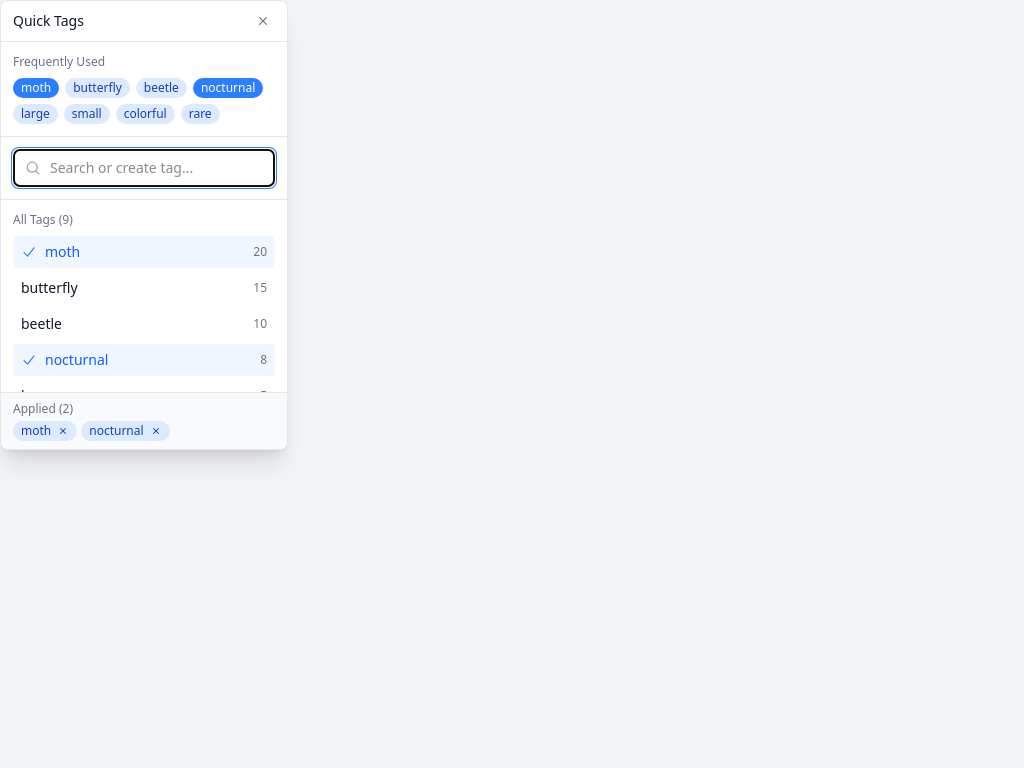
QuickTagDropdown › filters all tags based on search
Type "but" into the field with placeholder "Search or create tag...".
click(144, 168); type("but")  # box [13,149,275,187]
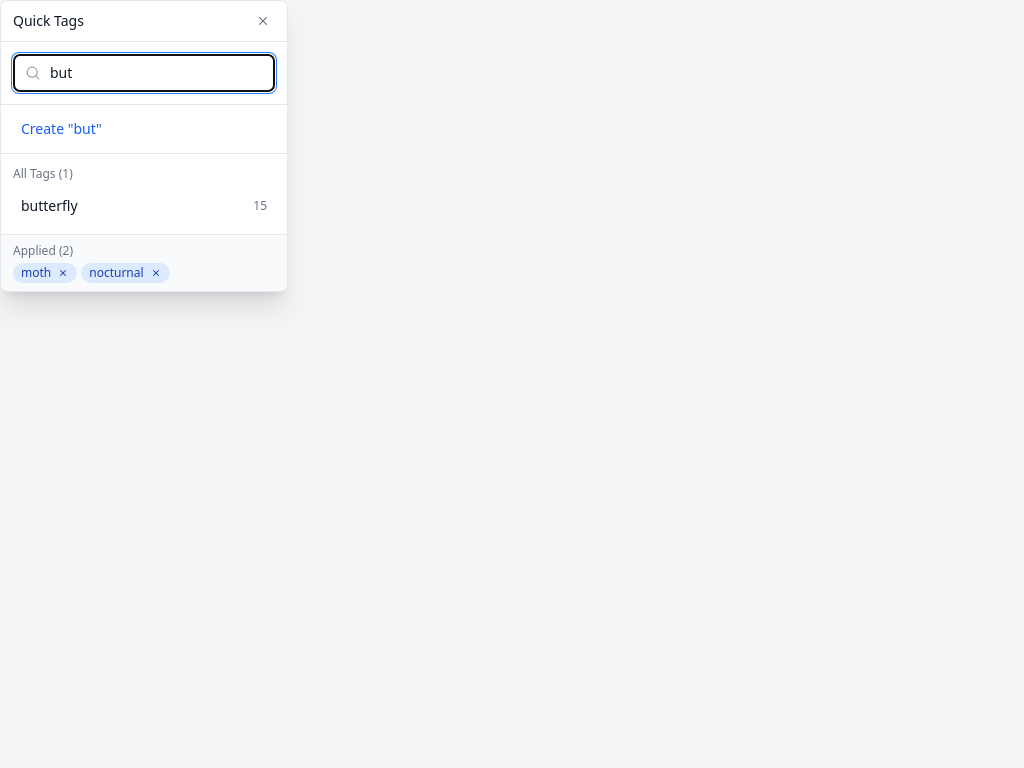
Expected: the text "butterfly" is shown, [21,196,78,216]
Expected: the text "beetle" is gone
